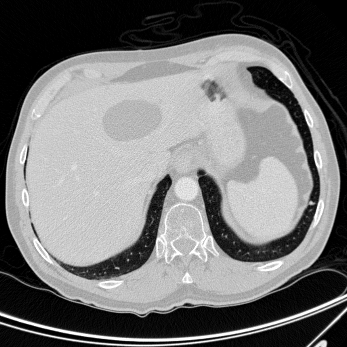nodule: (309, 201, 313, 205)
